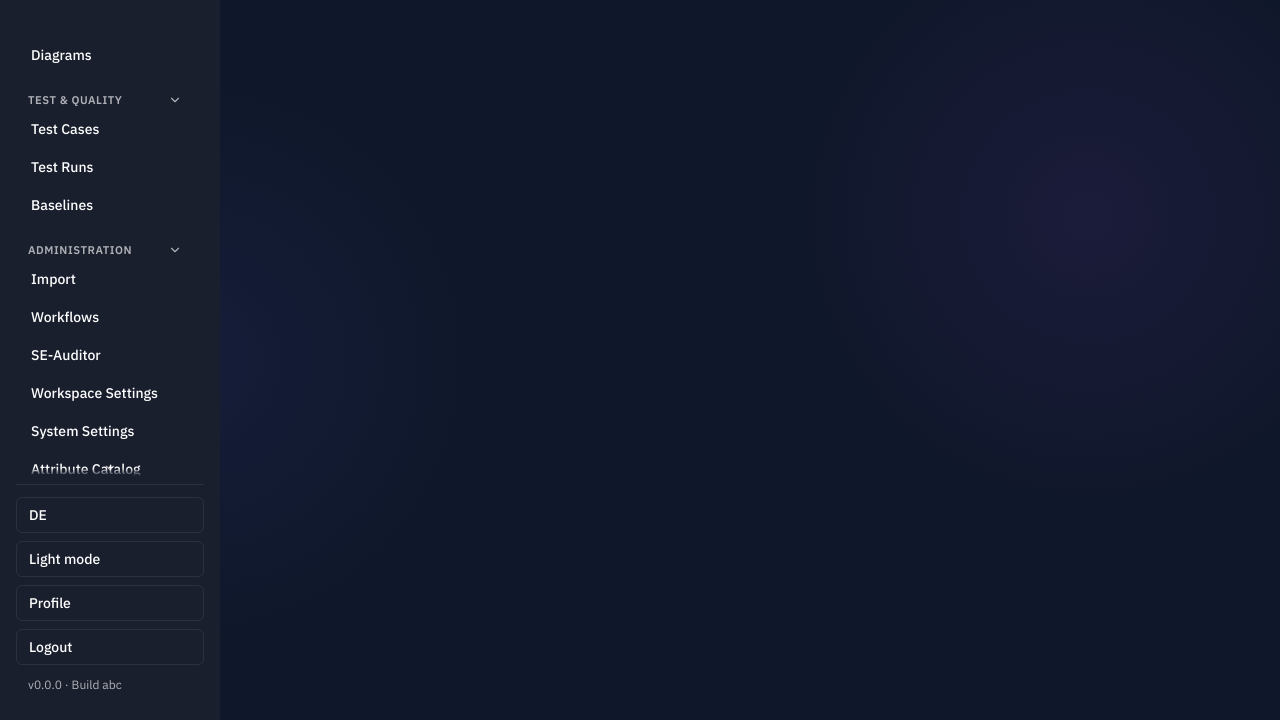
Test: SidebarNavigation — collapsible nav groups (T-C4-4) › collapses a group on click and PATCHes the full collapsed id list at user level
The width and height of the screenshot is (1280, 720).
(page scrolled)
Step 1. Click the button with test id "sidebar-group-toggle-admin" → click(105, 250), box [16,238,194,262]
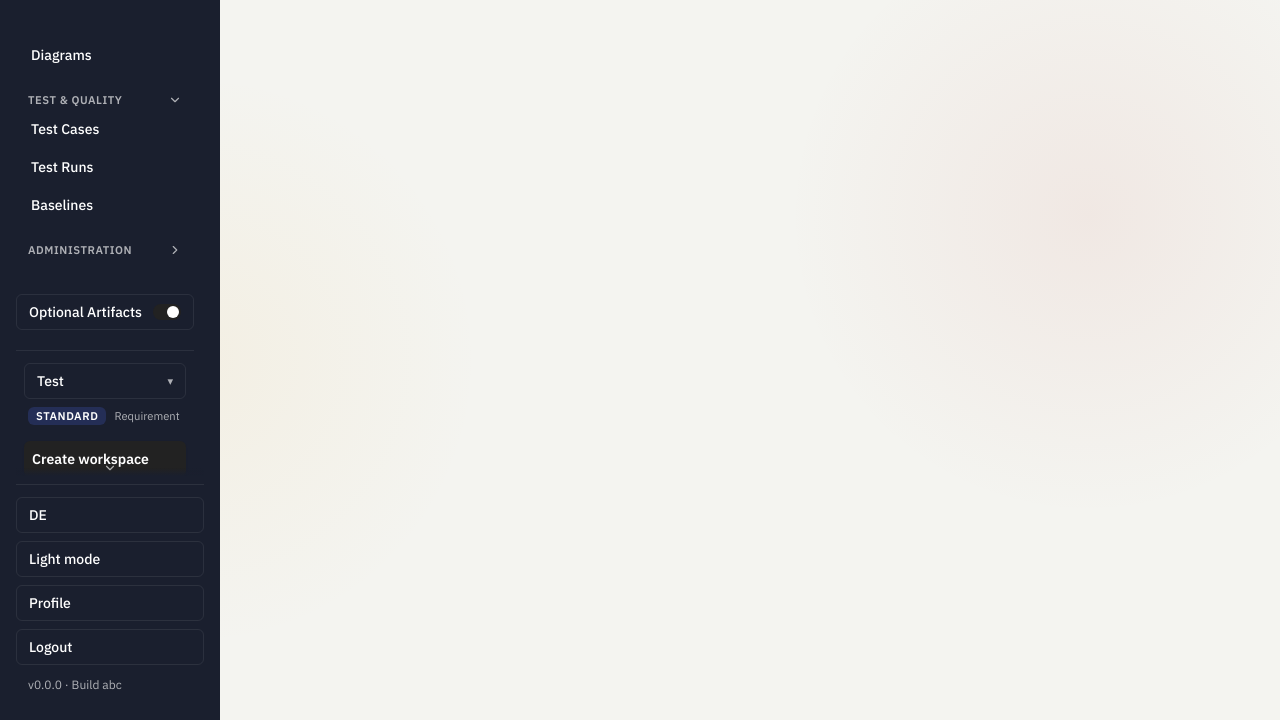
expect the button with test id "sidebar-group-toggle-admin" is collapsed: met, box [16,238,194,262]
expect the link "Import" is gone: met
